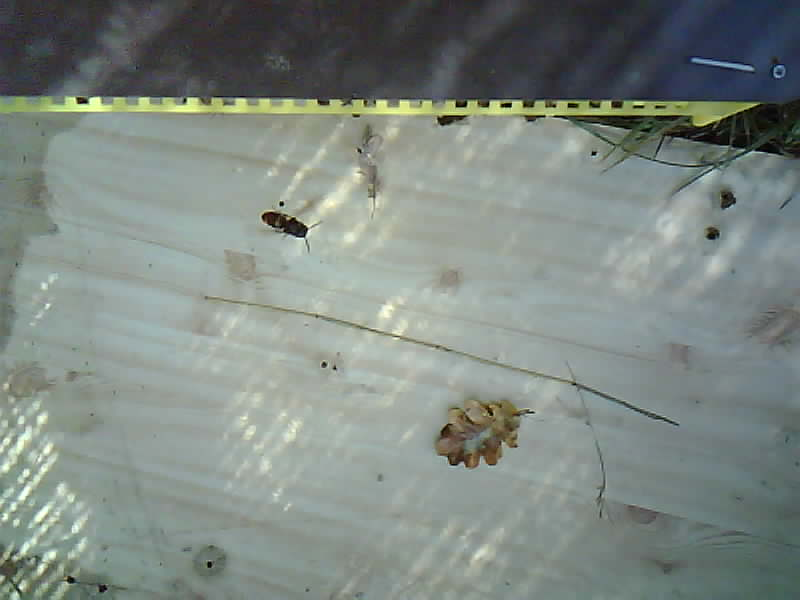hornet: (257, 204, 320, 245)
